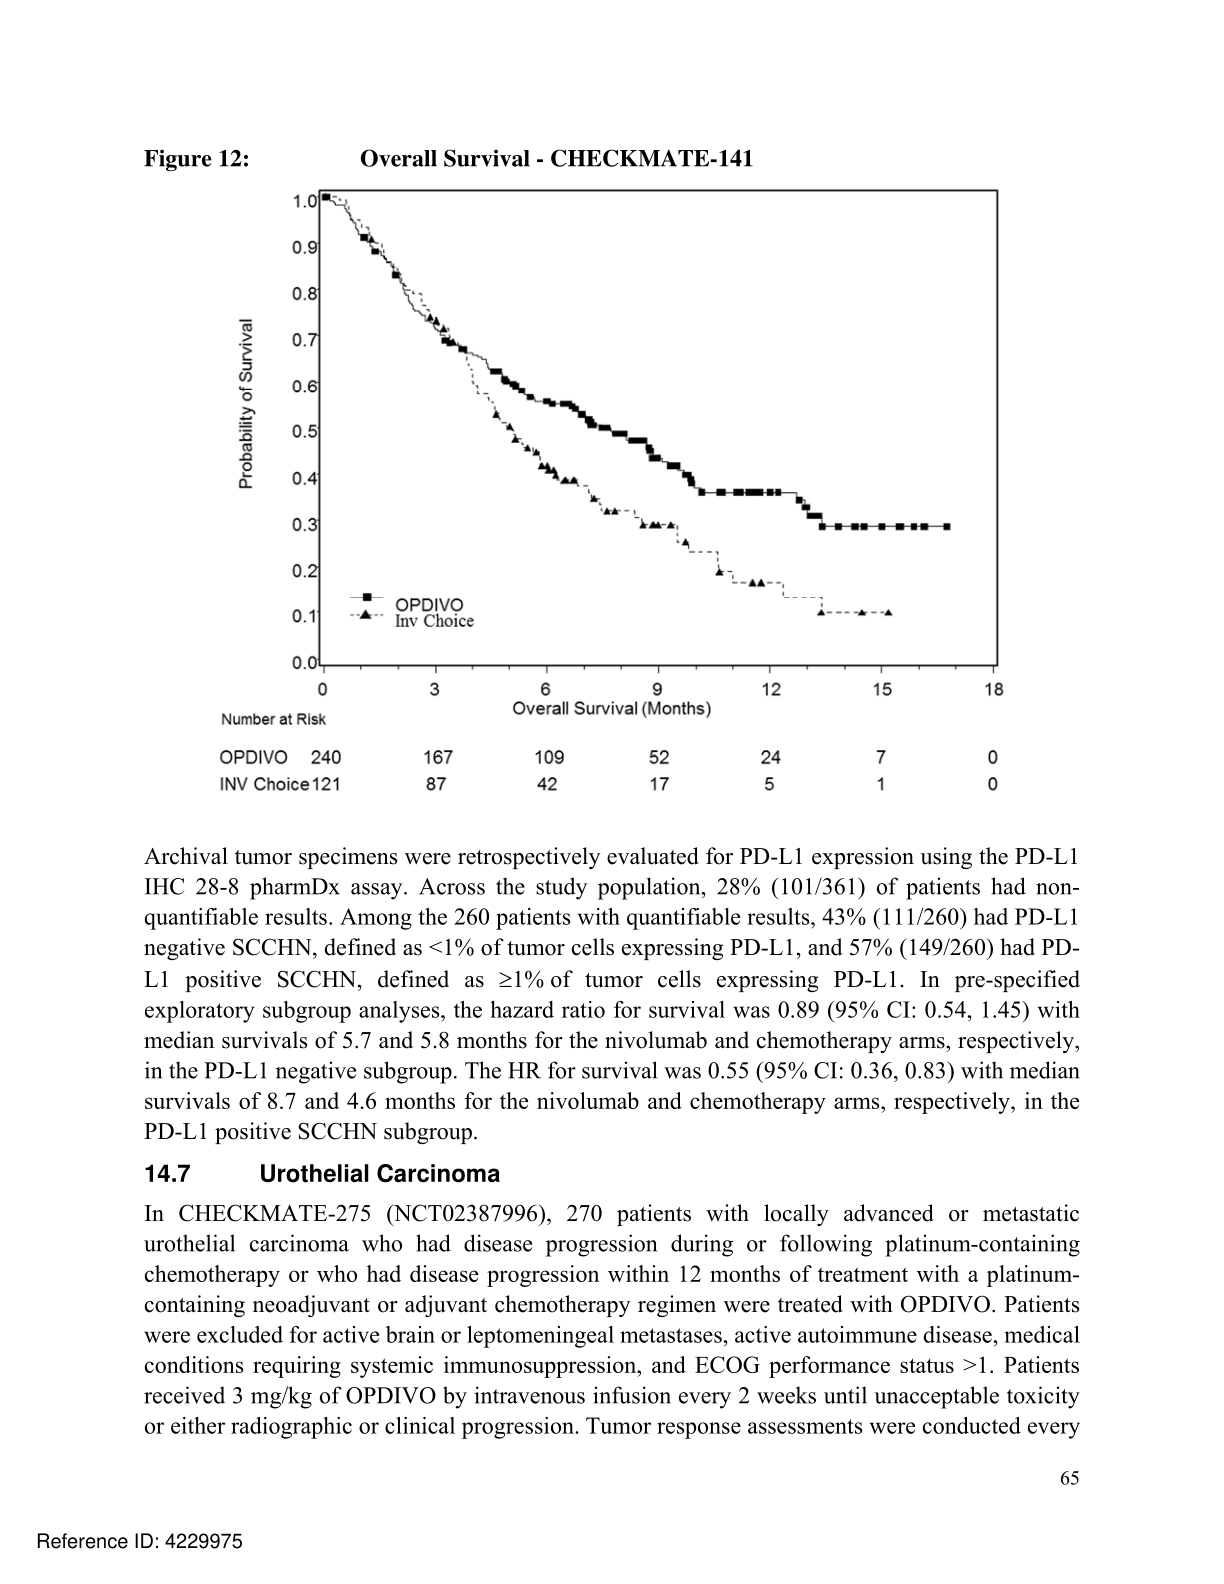nolines: (216, 747, 1002, 793)
